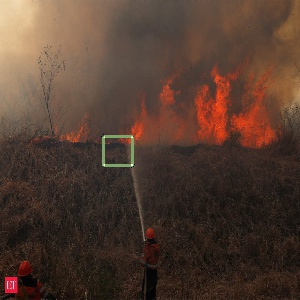square: (100, 133, 135, 168)
